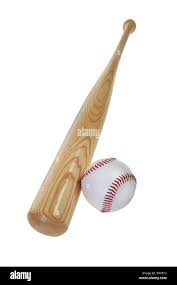baseball bat: (25, 18, 136, 236)
